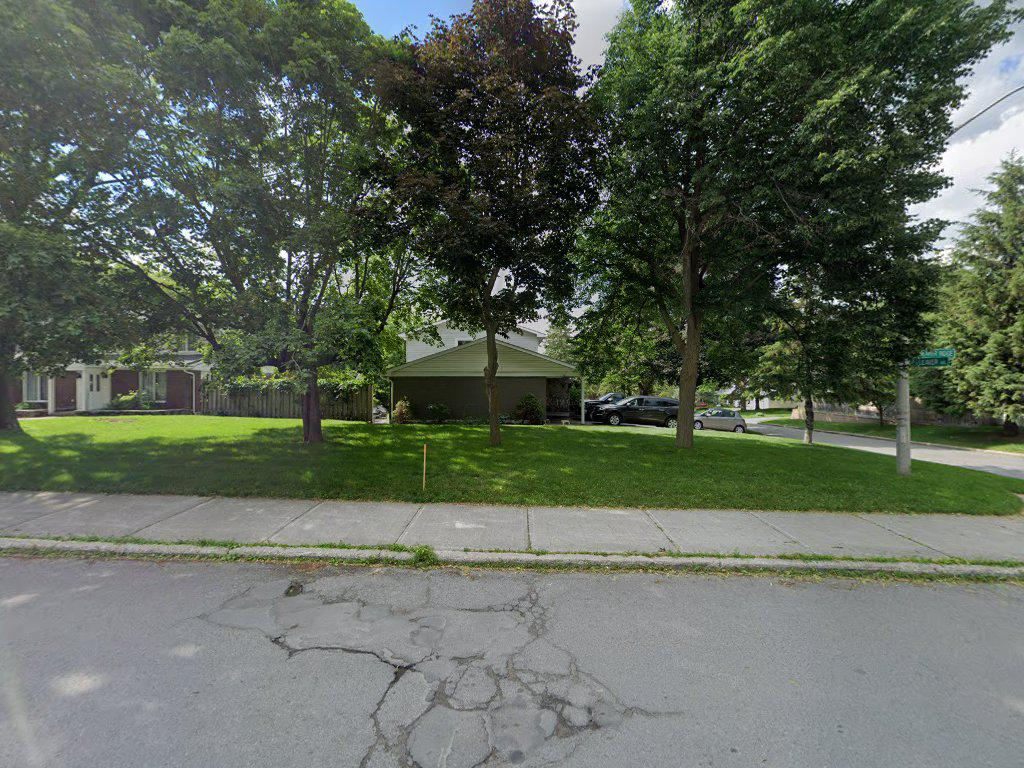trunk: (676, 277, 702, 466), (295, 352, 331, 454), (481, 322, 507, 456)
